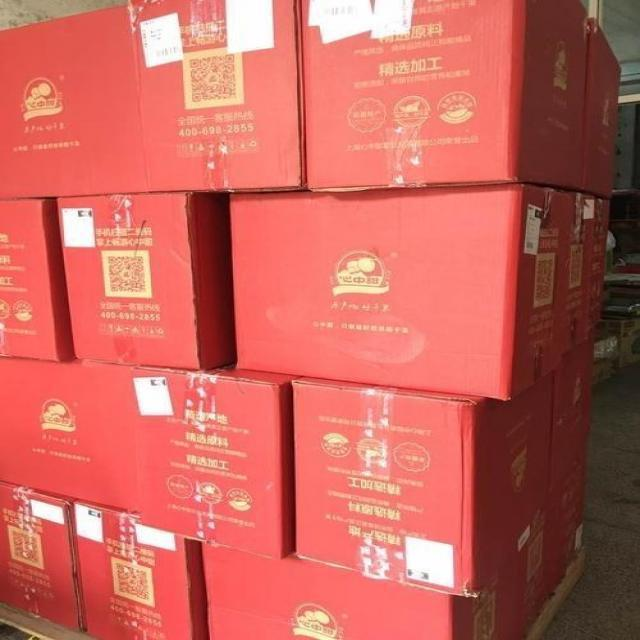box: (231, 184, 611, 410), (298, 0, 632, 200), (298, 369, 554, 598), (124, 0, 312, 191), (134, 362, 307, 559), (60, 190, 236, 372), (0, 4, 155, 196), (0, 352, 155, 521), (75, 493, 210, 640), (0, 482, 94, 634)
